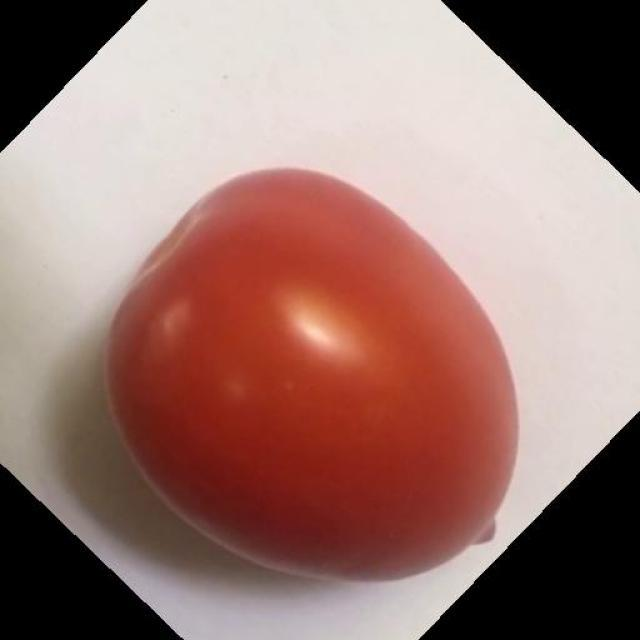Fresh Tomato: (79, 142, 557, 594)
